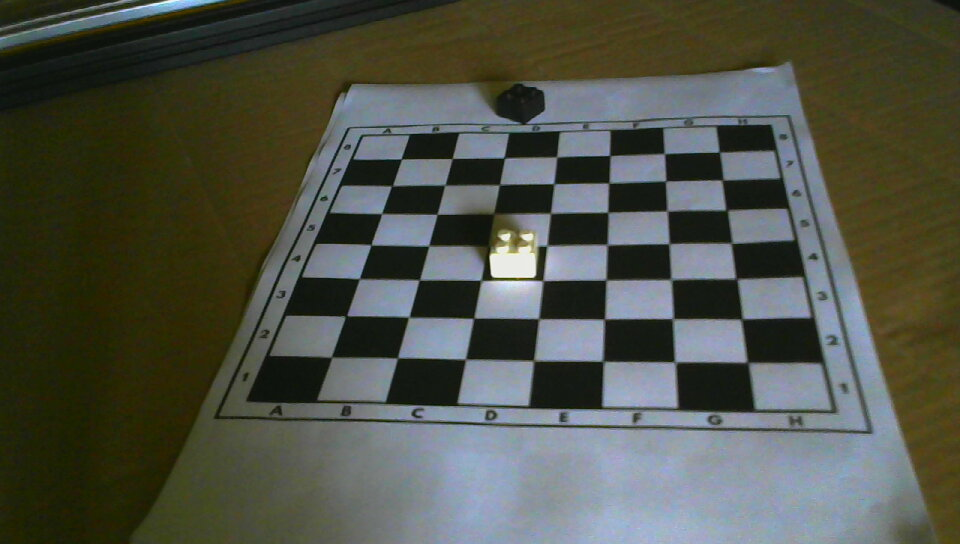bp: (496, 83, 547, 125)
wp: (489, 225, 536, 280)
